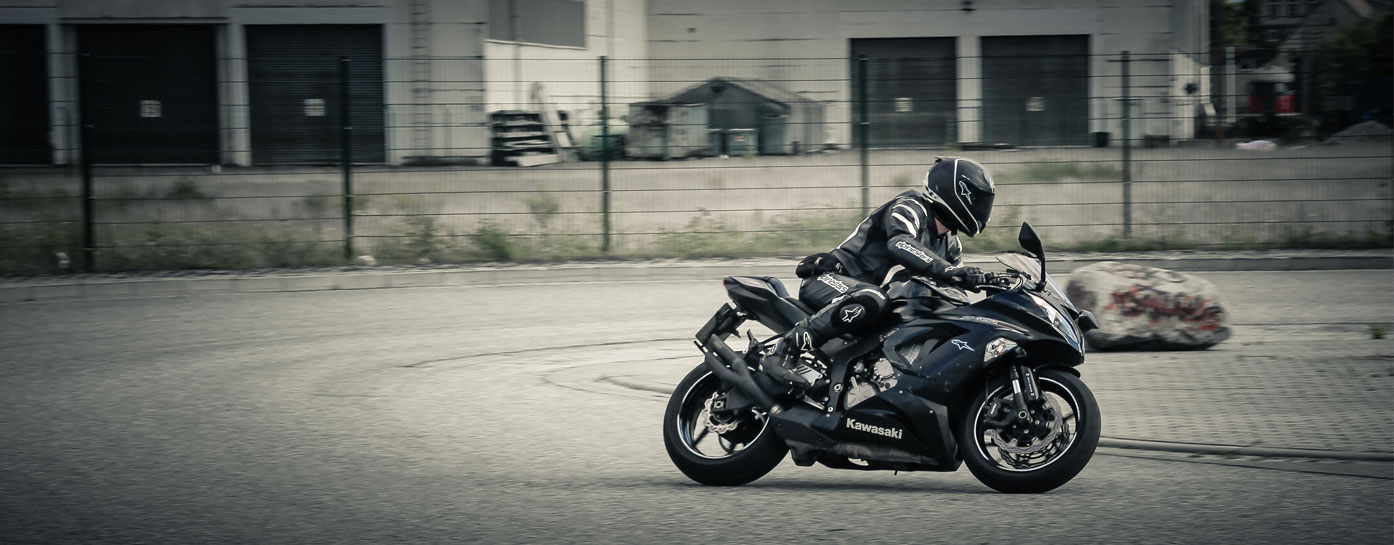helmet: (810, 142, 1009, 467)
